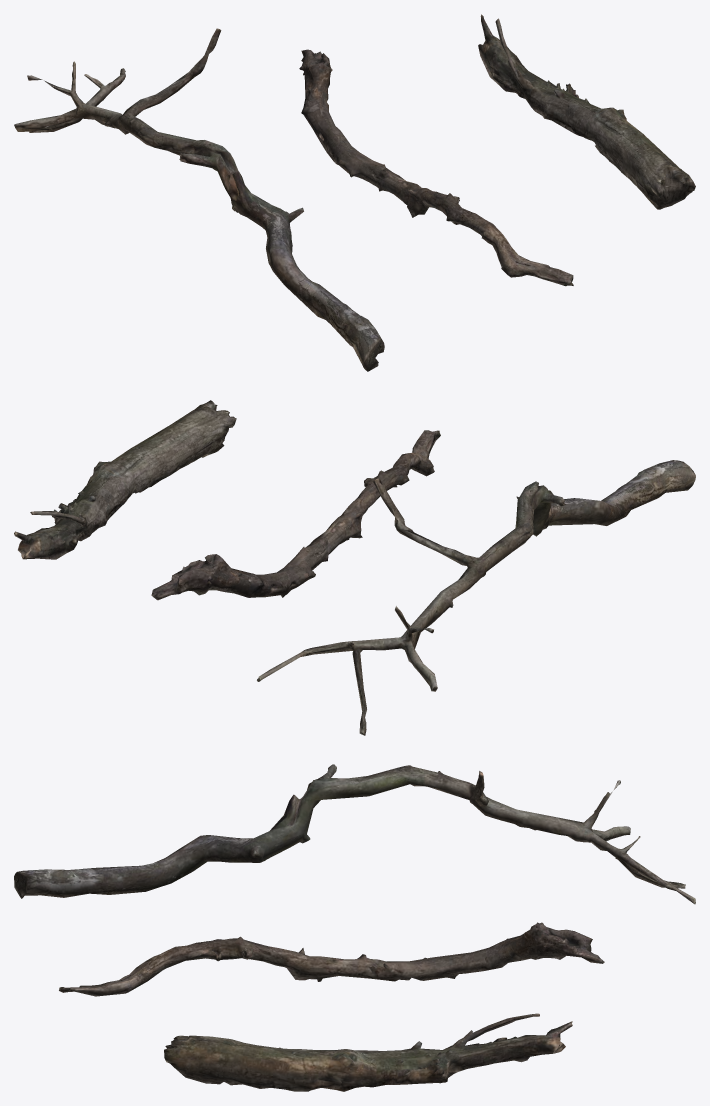
Rendered from dry_branches_medium_01.gltf.
The picture shows the model from 3 angles, top to bottom: view 1: azimuth 30°, elevation 25°; view 2: azimuth 150°, elevation 25°; view 3: azimuth 270°, elevation 25°; orthographic projection. The views are drawn at different scales.
Visible parts, largest first — view 1: dry_branches_medium_01_a, dry_branches_medium_01_c, dry_branches_medium_01_b; view 2: dry_branches_medium_01_a, dry_branches_medium_01_c, dry_branches_medium_01_b; view 3: dry_branches_medium_01_a, dry_branches_medium_01_c, dry_branches_medium_01_b.
Part boxes in pixels (x1,y1,x2,y2): dry_branches_medium_01_a: (14,28,384,371); dry_branches_medium_01_c: (478,14,695,209); dry_branches_medium_01_b: (299,49,573,286); dry_branches_medium_01_a: (257,460,695,735); dry_branches_medium_01_c: (14,400,236,559); dry_branches_medium_01_b: (151,430,440,600); dry_branches_medium_01_a: (14,764,695,904); dry_branches_medium_01_c: (164,1013,572,1091); dry_branches_medium_01_b: (59,922,604,996).
Size of the model in its own units: 1.06 by 0.3401 by 1.3.
1 material, 1 textured.
